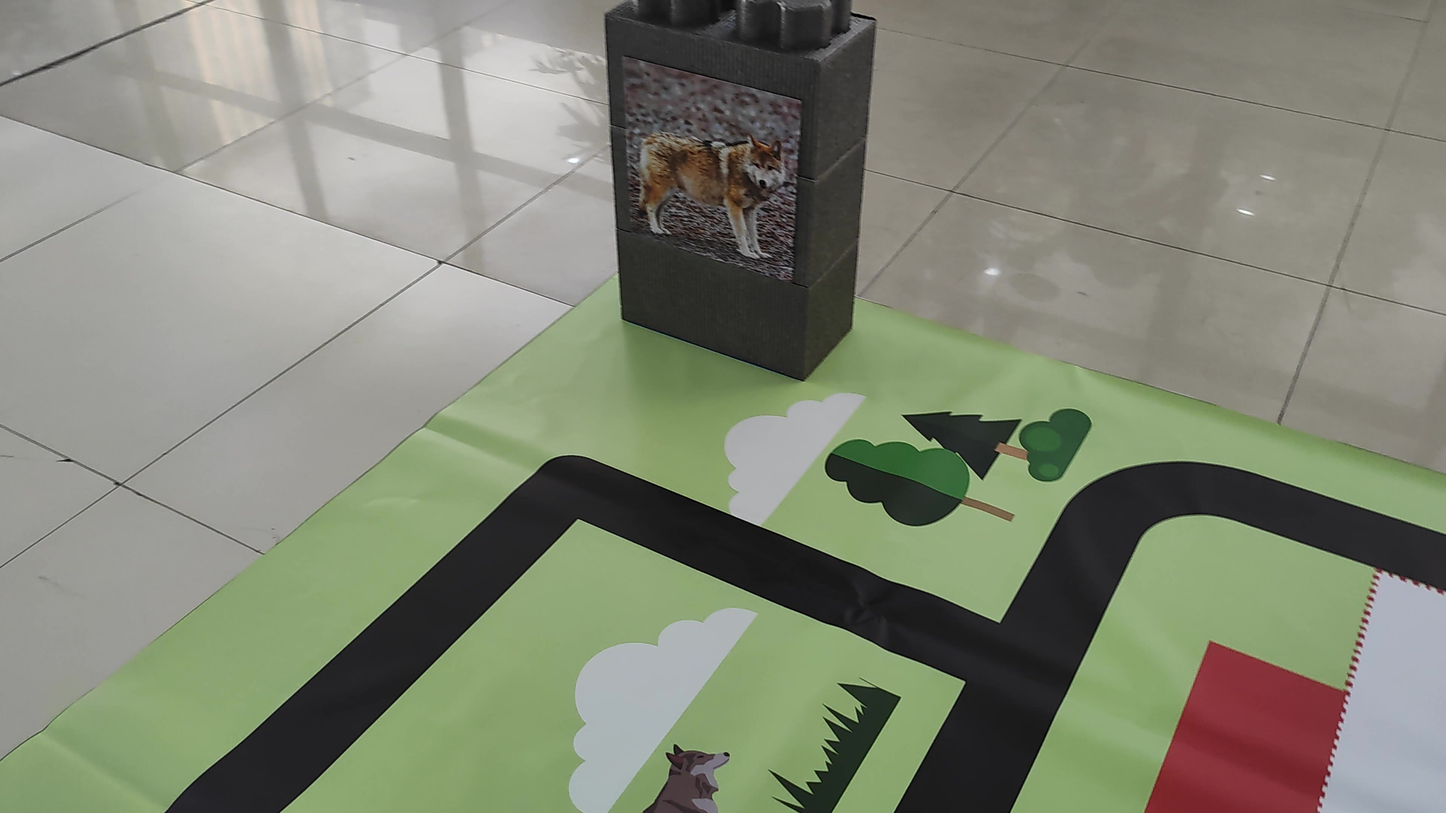wolf: (612, 69, 799, 253)
